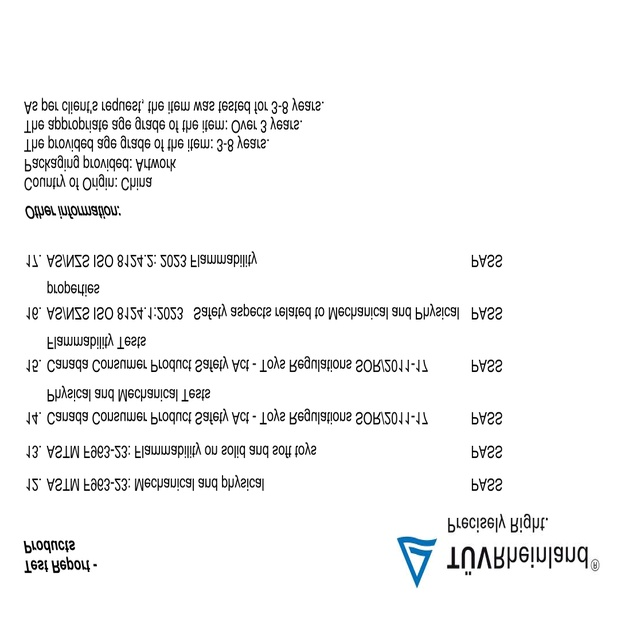tuv_rheinland: (395, 534, 602, 588)
